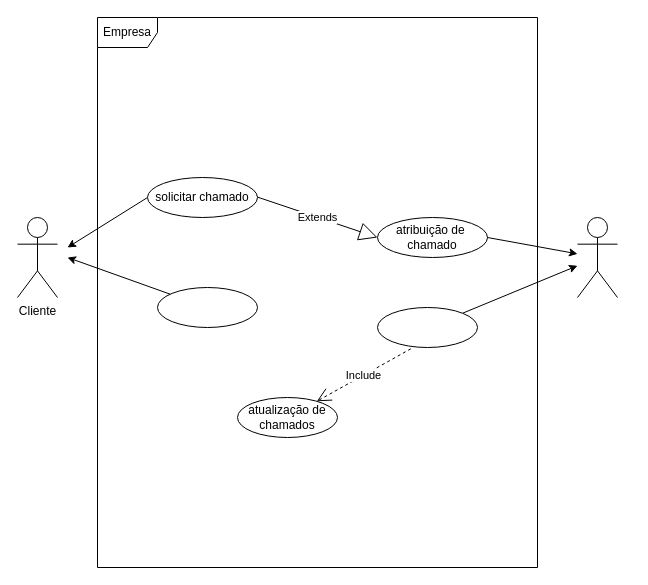
Some shapes in this 648 by 585 pixel diagram are drawn without their labels. The centre of each missing label's shape, as x and y in pixels:
"cadastro de chamados" belongs at pixel 427 327.
"cadastro de clientes" belongs at pixel 207 307.
"Colaborador" belongs at pixel 597 257.
